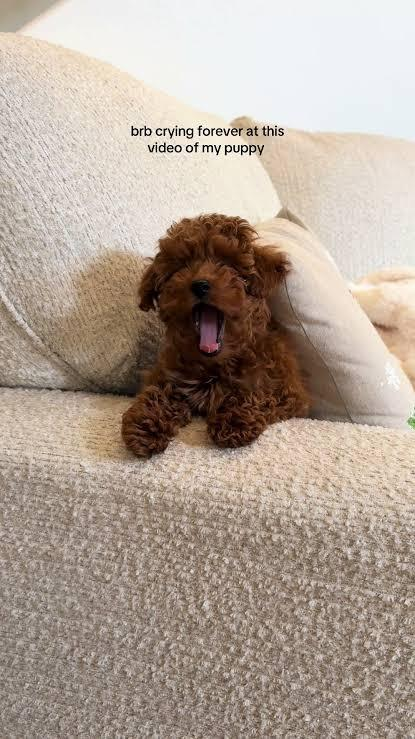puppy-dog: (120, 212, 313, 461)
